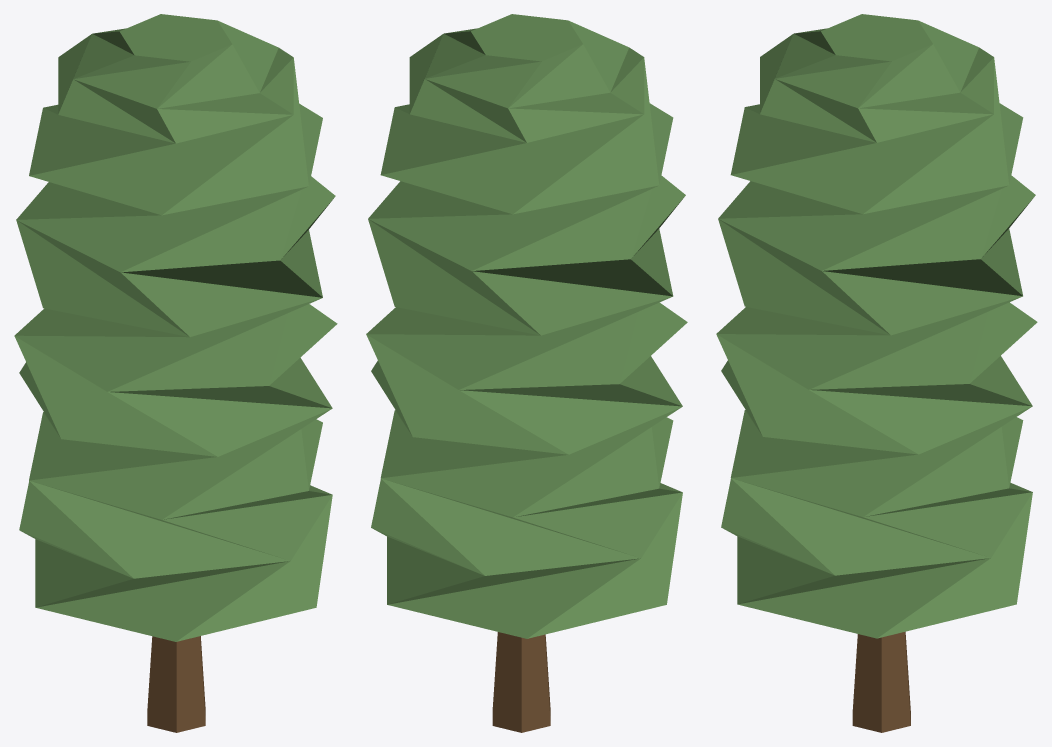
Rendered from tree3d-119.glb.
3 views of the same model, side by side, from view 1: azimuth 30°, elevation 25°; view 2: azimuth 150°, elevation 25°; view 3: azimuth 270°, elevation 25° (orthographic).
Visible parts, largest first — view 1: tree3d-119; view 2: tree3d-119; view 3: tree3d-119.
Boxes of the visible parts, x1=… form: tree3d-119: x1=14, y1=14, x2=337, y2=732; tree3d-119: x1=366, y1=14, x2=687, y2=732; tree3d-119: x1=716, y1=14, x2=1037, y2=732.
Size of the model in its own units: 0.4306 by 1 by 0.429.
